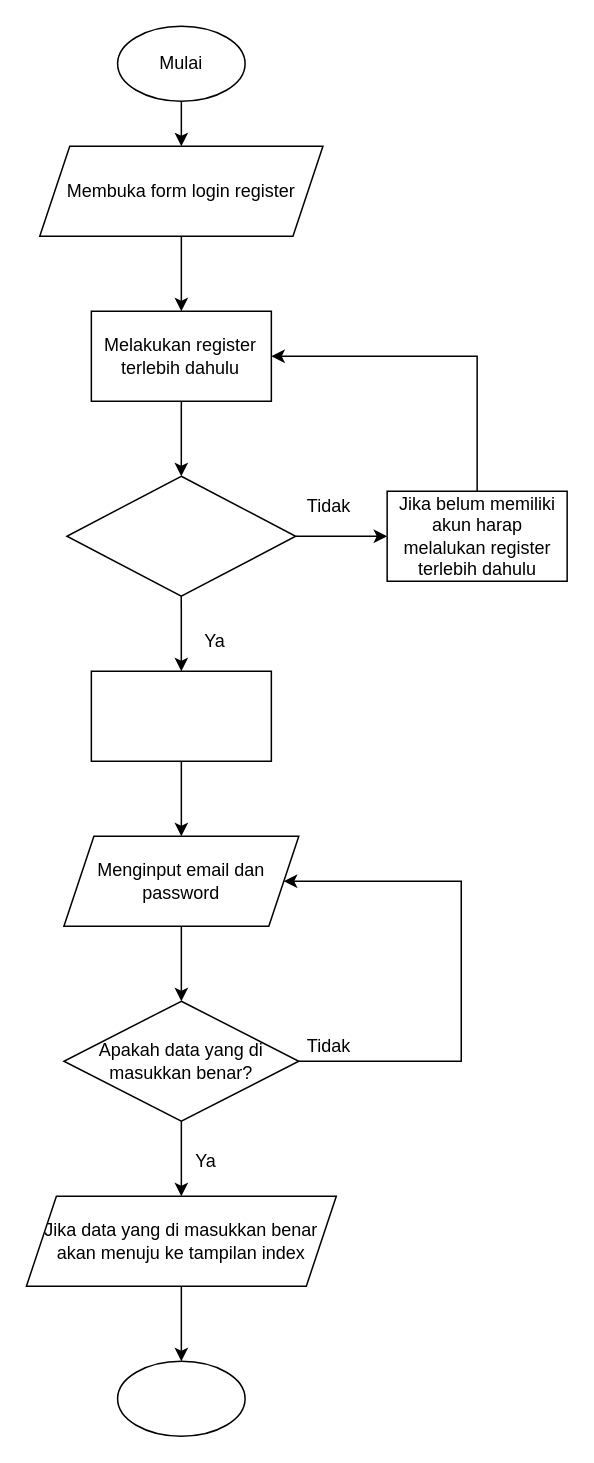
The diagram is 594 pixels wide and 1463 high, and some of its shapes have lost their labels. The centre of each missing label's shape, as x and y in pixels:
Klik login di sini untuk menuju halaman login: [180,715]
Selesai: [180,1398]
Sudah punya akun?: [180,535]
